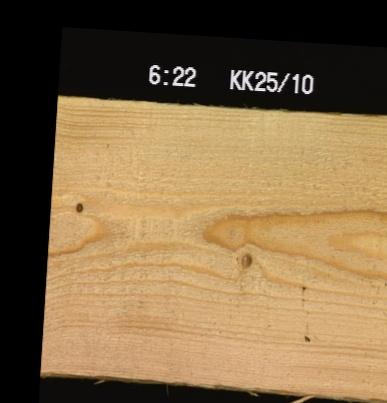dry_knot: (72, 199, 84, 213)
sound_knot: (237, 250, 252, 269)
